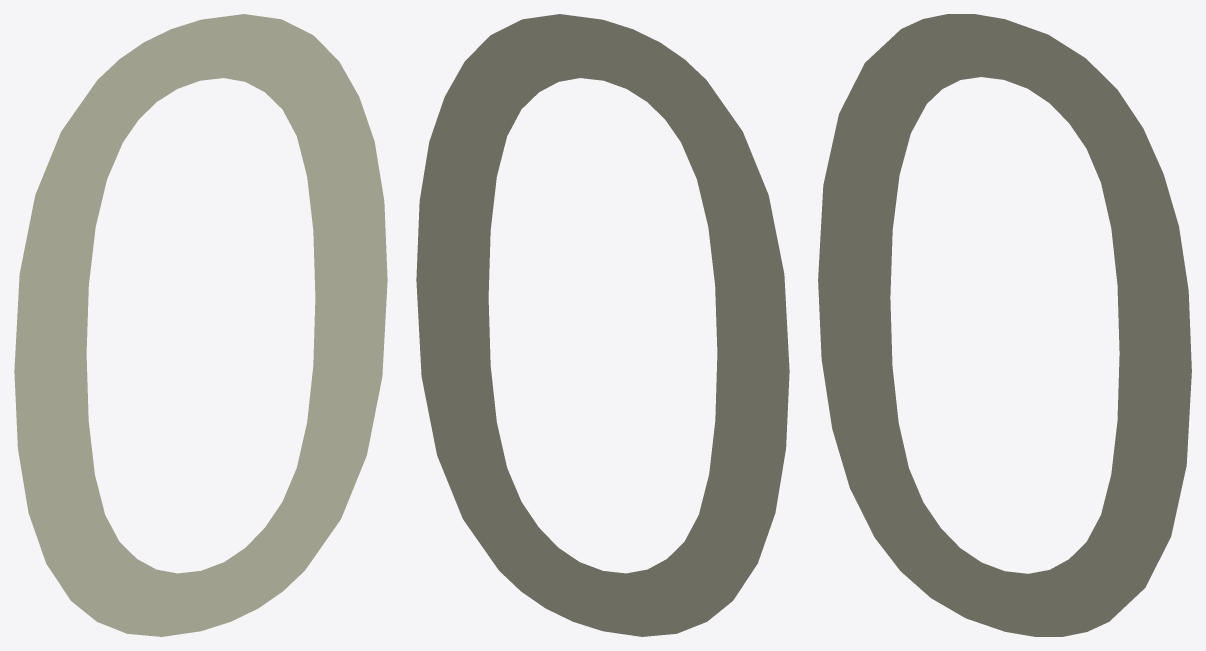
File: original-67.obj
3 views of the same model, side by side, from view 1: azimuth 30°, elevation 25°; view 2: azimuth 150°, elevation 25°; view 3: azimuth 330°, elevation 25° (orthographic).
Visible parts, largest first — view 1: mesh54/mesh54-geometry#mesh54-geometry; view 2: mesh54/mesh54-geometry#mesh54-geometry; view 3: mesh54/mesh54-geometry#mesh54-geometry.
Part boxes in pixels (bbox=[...]): mesh54/mesh54-geometry#mesh54-geometry: bbox=[14, 14, 387, 636]; mesh54/mesh54-geometry#mesh54-geometry: bbox=[416, 14, 789, 636]; mesh54/mesh54-geometry#mesh54-geometry: bbox=[818, 14, 1191, 636].
Size of the model in its own units: 0.0223 by 0.035 by 0.
